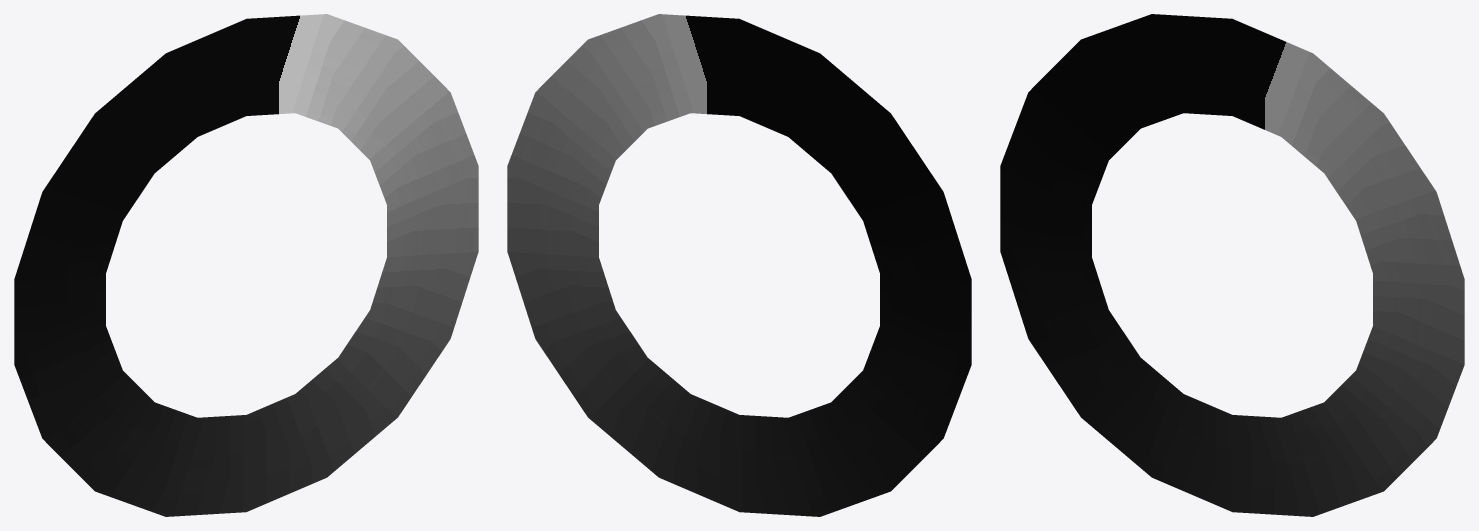
The model's file is changyong_plane_yuan.FBX.
3 renders of one model, left to right at view 1: azimuth 30°, elevation 25°; view 2: azimuth 150°, elevation 25°; view 3: azimuth 330°, elevation 25°, orthographic.
Parts seen in each view (by area): view 1: Torus001; view 2: Torus001; view 3: Torus001.
Boxes of the visible parts, x1,y1,x2,y2 form: Torus001: (14, 14, 478, 516); Torus001: (507, 14, 971, 516); Torus001: (1000, 14, 1464, 516).
Size of the model in its own units: 134 by 136 by 6.54e-06.
1 material, 1 textured.
